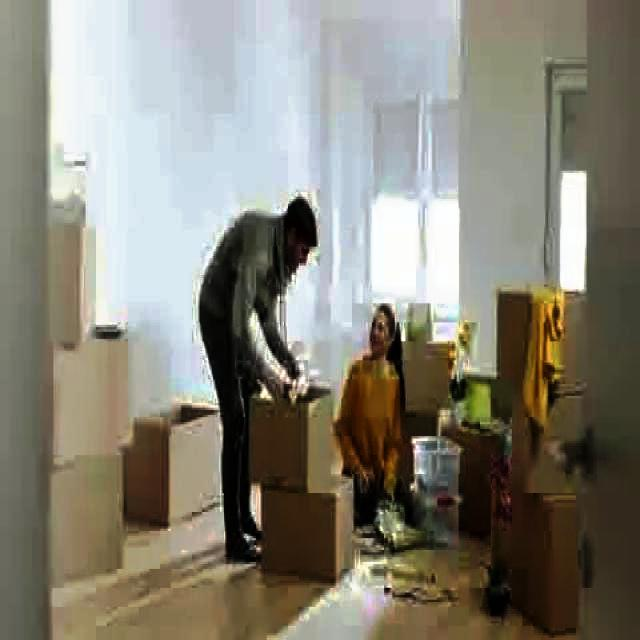Box: (124, 406, 223, 528), (246, 398, 338, 493), (60, 346, 140, 450), (260, 486, 351, 576), (47, 464, 125, 564), (49, 220, 102, 351)
